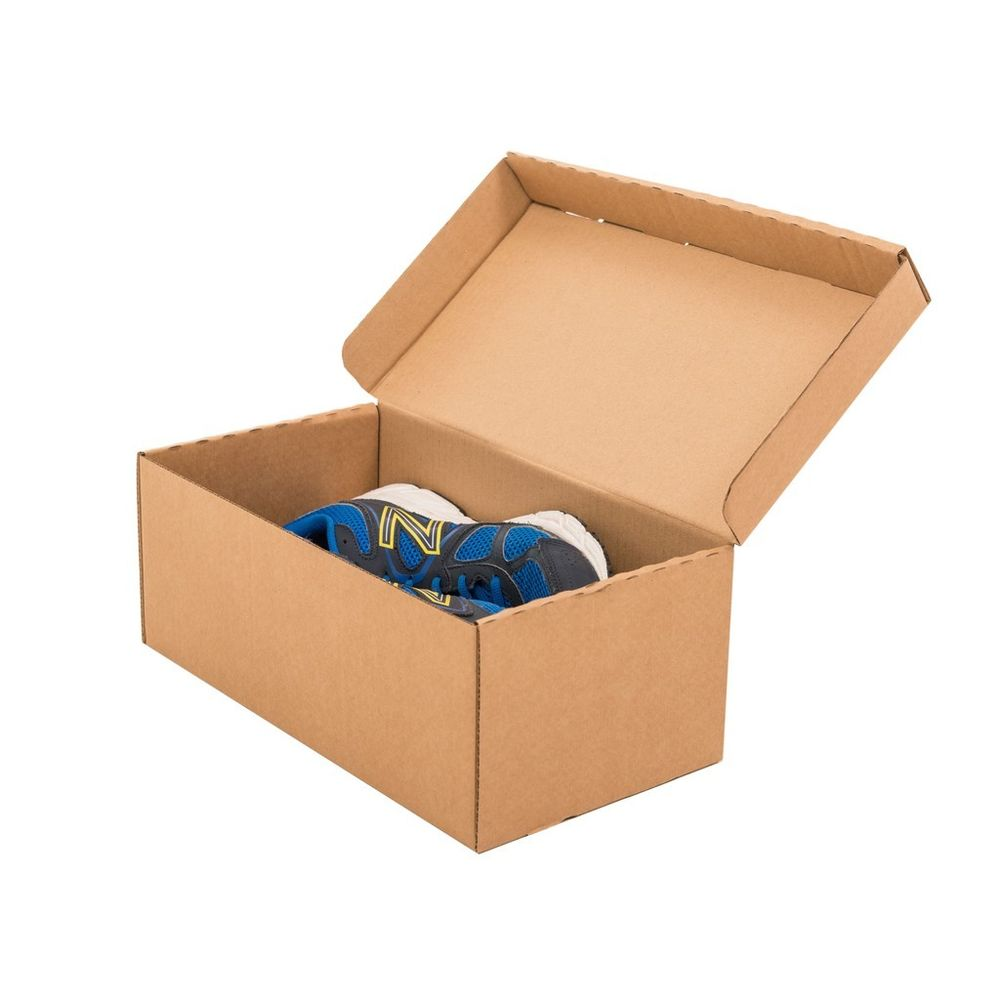Rec_Paper: (119, 113, 929, 870)
